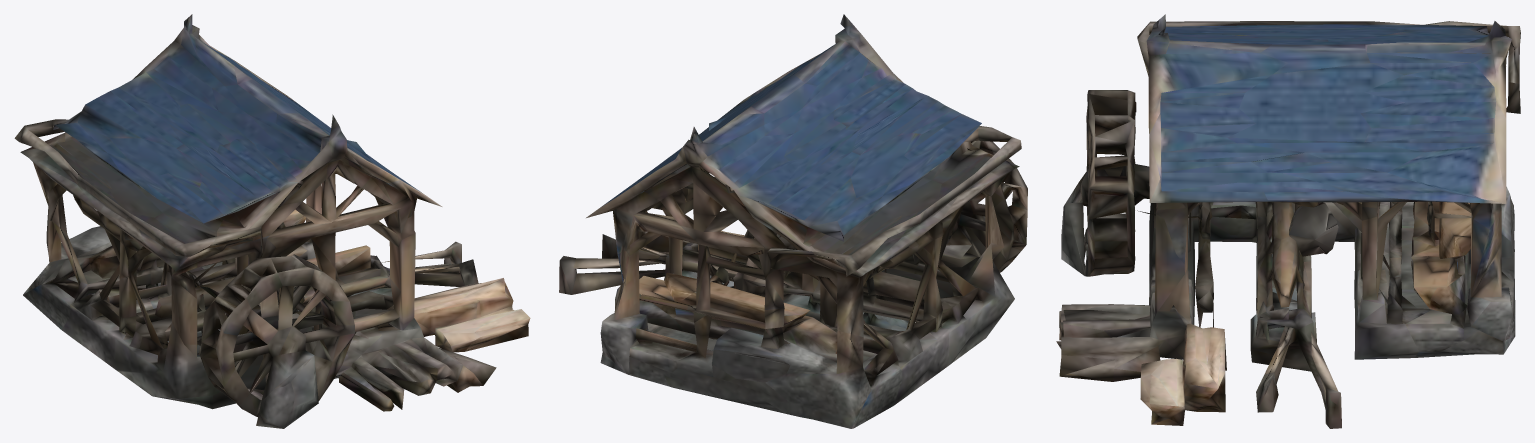
The model's file is lumber_mill_0.glb.
The picture shows the model from 3 angles, left to right: view 1: azimuth 30°, elevation 25°; view 2: azimuth 150°, elevation 25°; view 3: azimuth 270°, elevation 25°; orthographic projection. The views are drawn at different scales.
Parts seen in each view (by area): view 1: tripo_node_9945b97e-1be0-422c-9976-57f55744a30e; view 2: tripo_node_9945b97e-1be0-422c-9976-57f55744a30e; view 3: tripo_node_9945b97e-1be0-422c-9976-57f55744a30e.
Part boxes in pixels (bbox=[...]): tripo_node_9945b97e-1be0-422c-9976-57f55744a30e: bbox=[14, 14, 530, 428]; tripo_node_9945b97e-1be0-422c-9976-57f55744a30e: bbox=[559, 14, 1027, 428]; tripo_node_9945b97e-1be0-422c-9976-57f55744a30e: bbox=[1056, 14, 1520, 428].
Size of the model in its own units: 0.9689 by 0.6799 by 0.9219.
Materials: 1 (1 with a texture image).
